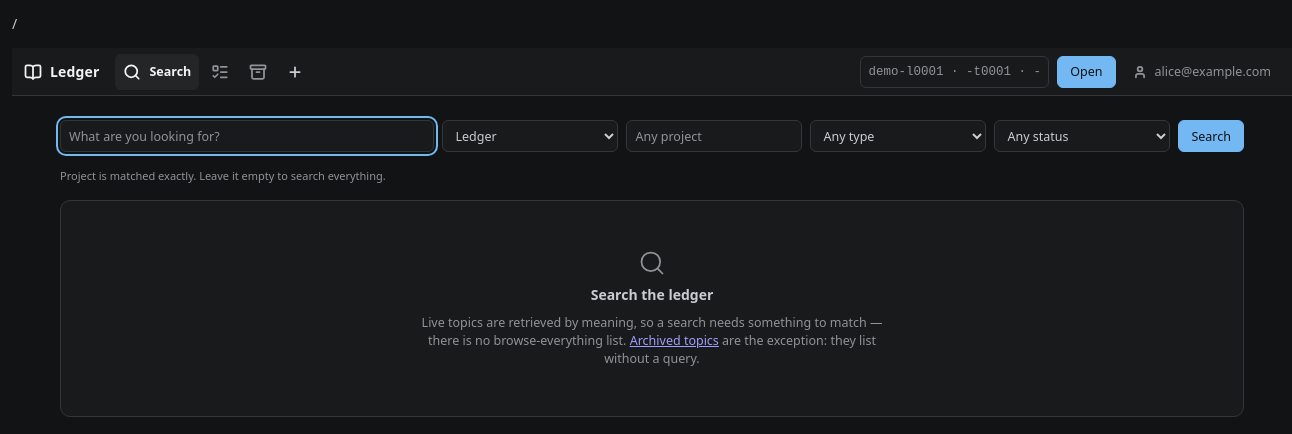
Test: the tracker in the shell › goes to the project list from the bar when no project was used yet
Click the button named "Tracker".
click(220, 72)  # box 203,54 -> 237,90
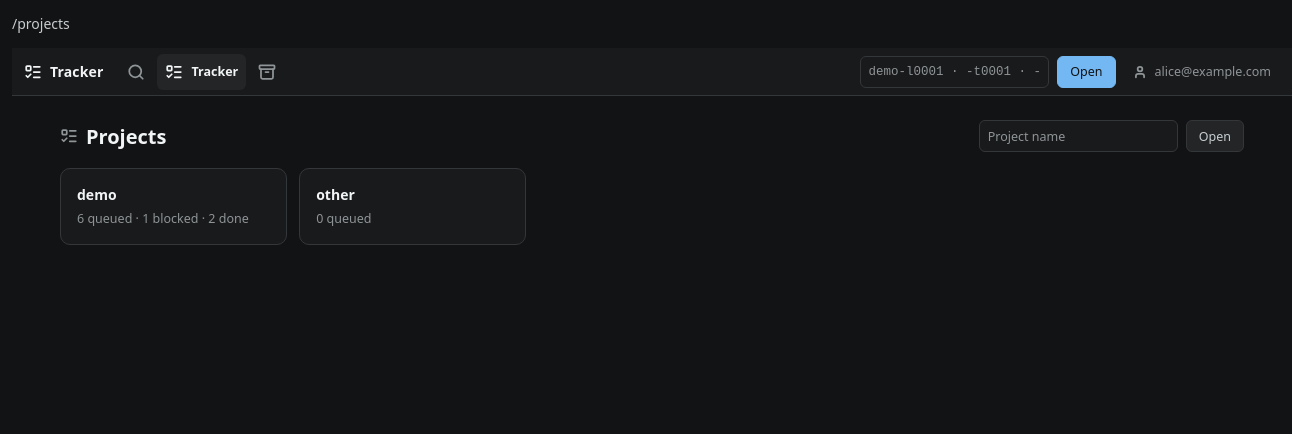
Now the text with test id "address" reads "/projects", box 12,14 -> 70,33
